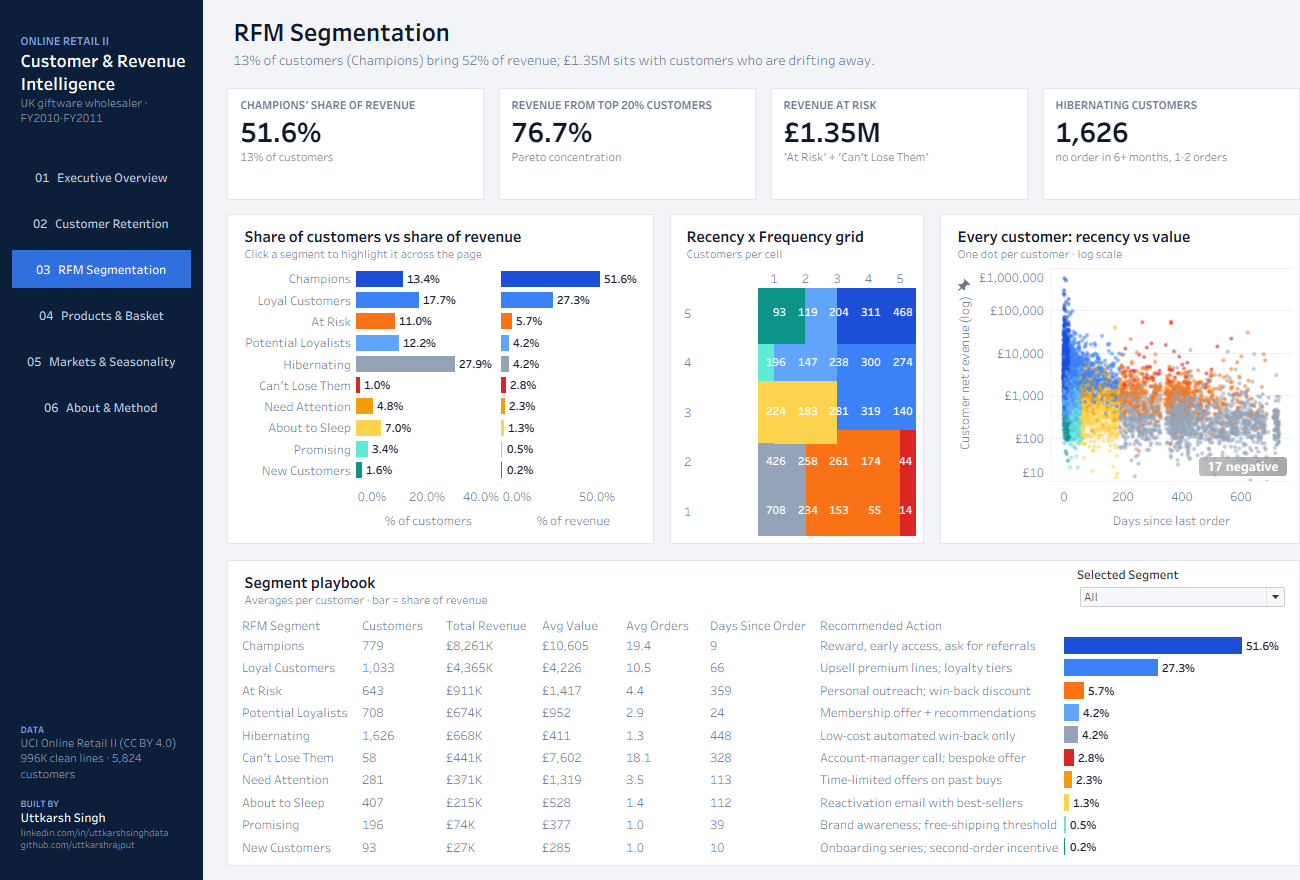

What the dashboard file says about the page in this screenshot:
{"tool":"tableau","page":{"name":"RFM Segmentation","canvas":[1300,880],"ordinal":2},"visuals":[{"type":"blank","box":[0,0,200,880]},{"type":"text","box":[224,14,820,34]},{"type":"text","box":[14,22,180,118]},{"type":"text","box":[224,48,980,24]},{"type":"blank","box":[224,88,253.5,112]},{"type":"blank","box":[491.5,88,253.5,112]},{"type":"blank","box":[759,88,253.5,112]},{"type":"blank","box":[1026.5,88,253.5,112]},{"type":"worksheet","title":"KPI Champions Share","mark":"Text","box":[232,98,237.5,94]},{"type":"worksheet","title":"KPI Top 20 Share","mark":"Text","box":[499.5,98,237.5,94]},{"type":"worksheet","title":"KPI Revenue at Risk","mark":"Text","box":[767,98,237.5,94]},{"type":"worksheet","title":"KPI Hibernating","mark":"Text","box":[1034.5,98,237.5,94]},{"type":"dashboard-object","box":[12,158,176,38]},{"type":"dashboard-object","box":[12,204,176,38]},{"type":"blank","box":[224,214,420,330]},{"type":"blank","box":[660,214,250,330]},{"type":"blank","box":[926,214,354,330]},{"type":"text","box":[234,222,400,44]},{"type":"text","box":[670,222,230,44]},{"type":"text","box":[936,222,334,44]},{"type":"dashboard-object","box":[12,250,176,38]},{"type":"worksheet","title":"Segment Share","mark":"Bar","rows":["Calculation_8230857457389683231"],"cols":["Calculation_3119104867337609830","Calculation_1163162055550321772"],"box":[232,268,404,268]},{"type":"worksheet","title":"RF Grid","mark":"Square","rows":["Calculation_3601684812739474453"],"cols":["Calculation_7252463381070186815"],"box":[668,268,234,268]},{"type":"worksheet","title":"Customer Scatter","mark":"Circle","rows":["Revenue"],"cols":["Calculation_3091202925832975202"],"box":[934,268,338,268]},{"type":"dashboard-object","box":[12,296,176,38]},{"type":"dashboard-object","box":[12,342,176,38]},{"type":"dashboard-object","box":[12,388,176,38]},{"type":"blank","box":[224,560,1056,306]},{"type":"parameter","param":"[Parameters].[Parameter 3]","box":[1058,564,212,52]},{"type":"text","box":[234,568,806,44]},{"type":"worksheet","title":"Segment Playbook","mark":"Bar","rows":["Calculation_8230857457389683231","Calculation_3103503888332655199","Calculation_1553782425729631401","Calculation_2409935210586554332","Calculation_2679465377328055135","Calculation_9793099495641603264","Calculation_2466647283332988210"],"cols":["Calculation_1163162055550321772"],"box":[232,614,1040,244]},{"type":"text","box":[14,712,180,156]}]}

Visuals, with their boxes in screenshot pixels (x1, y1, x2, y2), scaled from the page's 1300x880 canvas onto the 1300x880 screenshot:
blank: {"x1": 0, "y1": 0, "x2": 200, "y2": 879}
text: {"x1": 224, "y1": 14, "x2": 1044, "y2": 48}
text: {"x1": 14, "y1": 22, "x2": 194, "y2": 140}
text: {"x1": 224, "y1": 48, "x2": 1204, "y2": 72}
blank: {"x1": 224, "y1": 88, "x2": 478, "y2": 200}
blank: {"x1": 492, "y1": 88, "x2": 745, "y2": 200}
blank: {"x1": 759, "y1": 88, "x2": 1012, "y2": 200}
blank: {"x1": 1026, "y1": 88, "x2": 1280, "y2": 200}
"KPI Champions Share" worksheet (Text marks): {"x1": 232, "y1": 98, "x2": 470, "y2": 192}
"KPI Top 20 Share" worksheet (Text marks): {"x1": 500, "y1": 98, "x2": 737, "y2": 192}
"KPI Revenue at Risk" worksheet (Text marks): {"x1": 767, "y1": 98, "x2": 1004, "y2": 192}
"KPI Hibernating" worksheet (Text marks): {"x1": 1034, "y1": 98, "x2": 1272, "y2": 192}
dashboard-object: {"x1": 12, "y1": 158, "x2": 188, "y2": 196}
dashboard-object: {"x1": 12, "y1": 204, "x2": 188, "y2": 242}
blank: {"x1": 224, "y1": 214, "x2": 644, "y2": 544}
blank: {"x1": 660, "y1": 214, "x2": 910, "y2": 544}
blank: {"x1": 926, "y1": 214, "x2": 1280, "y2": 544}
text: {"x1": 234, "y1": 222, "x2": 634, "y2": 266}
text: {"x1": 670, "y1": 222, "x2": 900, "y2": 266}
text: {"x1": 936, "y1": 222, "x2": 1270, "y2": 266}
dashboard-object: {"x1": 12, "y1": 250, "x2": 188, "y2": 288}
"Segment Share" worksheet (Bar marks): {"x1": 232, "y1": 268, "x2": 636, "y2": 536}
"RF Grid" worksheet (Square marks): {"x1": 668, "y1": 268, "x2": 902, "y2": 536}
"Customer Scatter" worksheet (Circle marks): {"x1": 934, "y1": 268, "x2": 1272, "y2": 536}
dashboard-object: {"x1": 12, "y1": 296, "x2": 188, "y2": 334}
dashboard-object: {"x1": 12, "y1": 342, "x2": 188, "y2": 380}
dashboard-object: {"x1": 12, "y1": 388, "x2": 188, "y2": 426}
blank: {"x1": 224, "y1": 560, "x2": 1280, "y2": 866}
parameter: {"x1": 1058, "y1": 564, "x2": 1270, "y2": 616}
text: {"x1": 234, "y1": 568, "x2": 1040, "y2": 612}
"Segment Playbook" worksheet (Bar marks): {"x1": 232, "y1": 614, "x2": 1272, "y2": 858}
text: {"x1": 14, "y1": 712, "x2": 194, "y2": 868}
